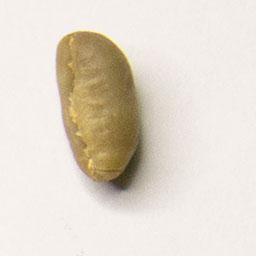longberry: (54, 28, 145, 187)
